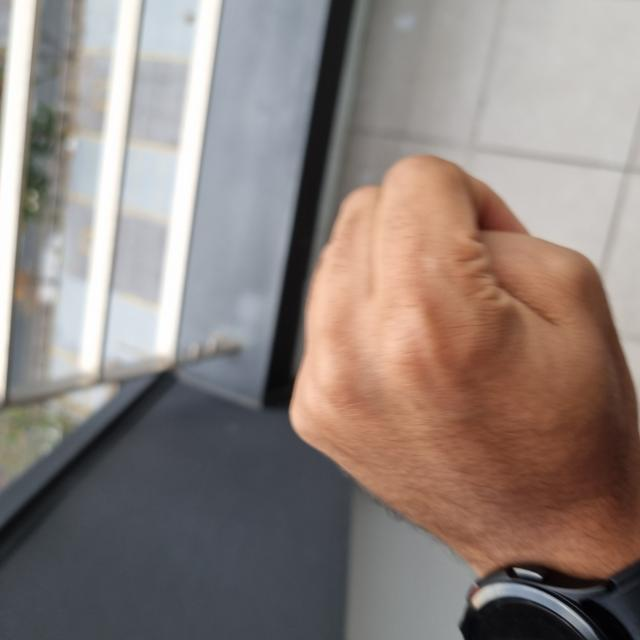Rock: (58, 288, 481, 639)
